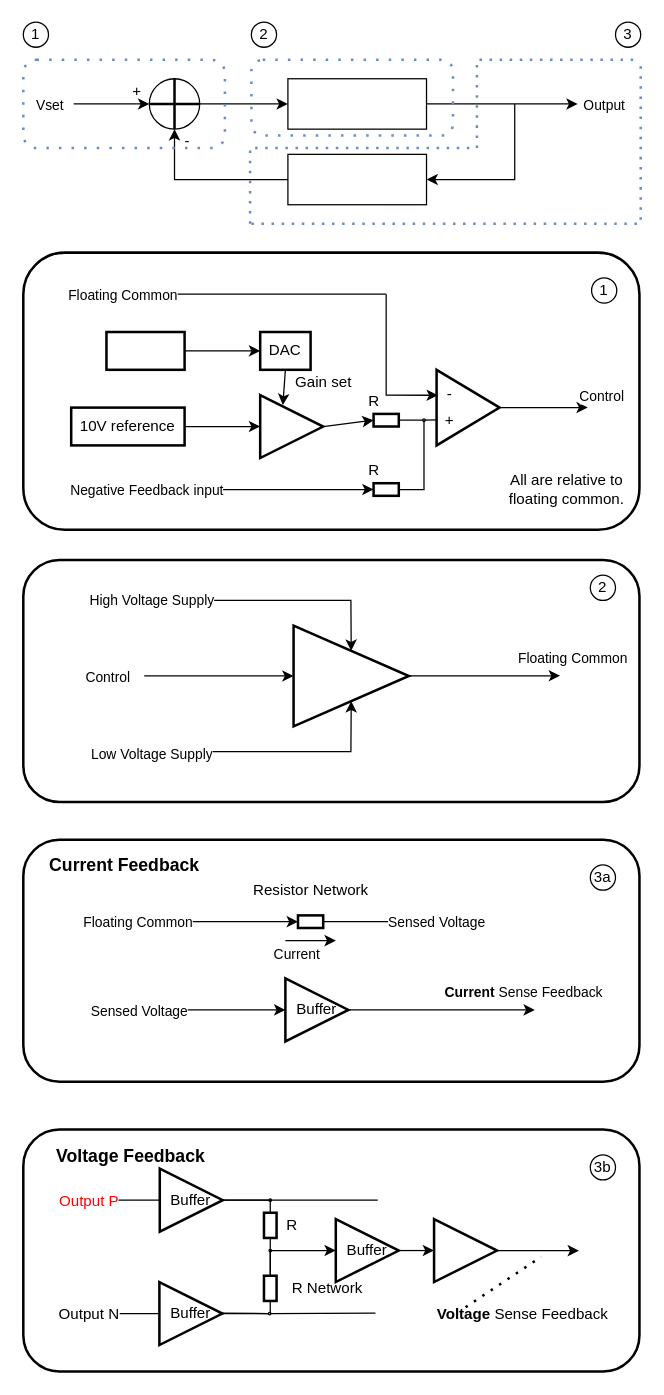
Some shapes in this 664 by 1395 pixel diagram are drawn without their labels. Here are the shapes that lost their labels. From the top down, the box of each, then its label:
(287, 77, 427, 129): A(V) Feedforward gain
(287, 153, 427, 205): F(V) Feedback gain
(105, 330, 185, 370): Set Point
(258, 393, 324, 459): A1
(292, 624, 410, 727): Amplifier Circuit
(432, 1217, 498, 1283): Inverter
